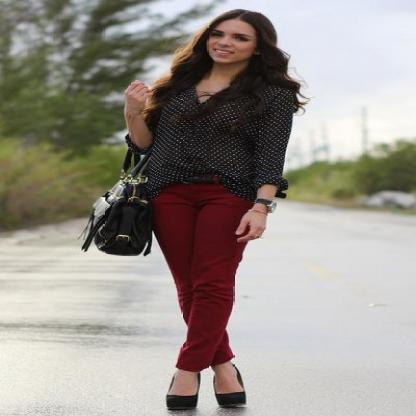bag: (78, 162, 161, 255)
pants: (150, 182, 254, 374)
shirt: (124, 84, 306, 200)
shoe: (166, 391, 246, 413)
